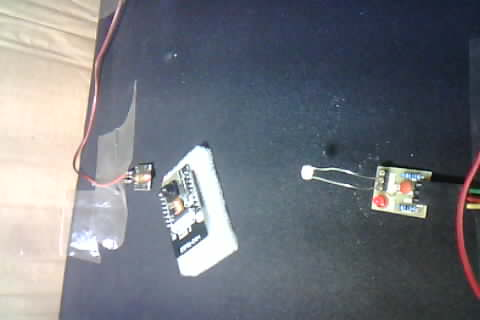esp32: (153, 154, 227, 268)
